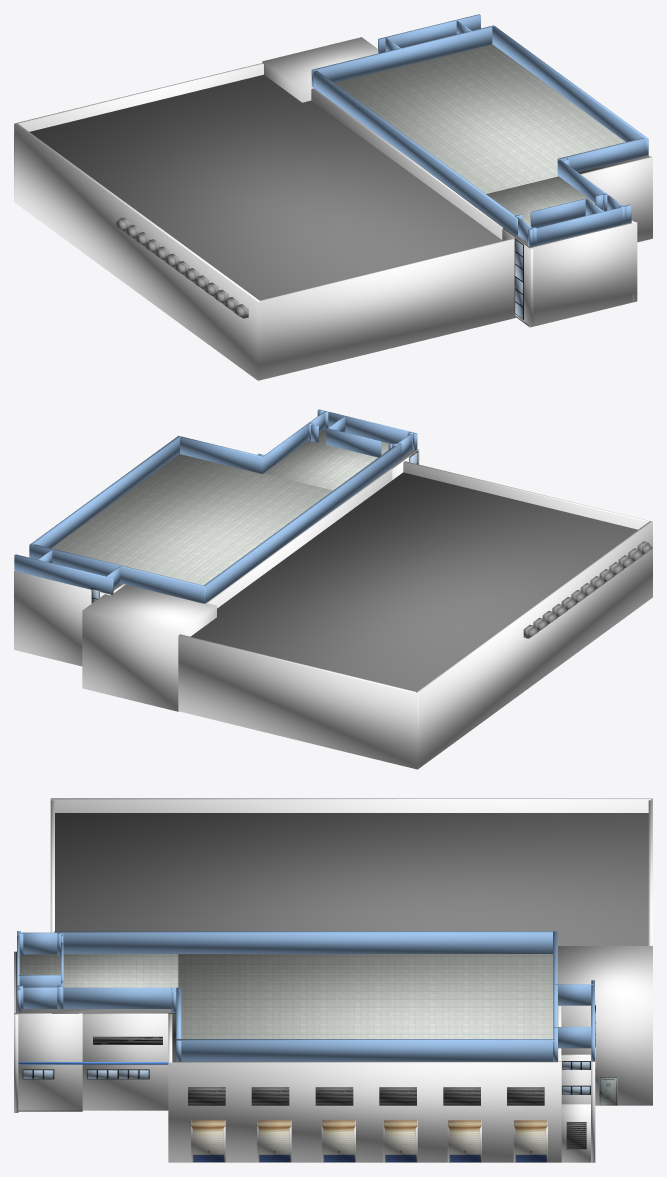
Rendered from wfa_3f_mini.gltf.
The picture shows the model from 3 angles, top to bottom: view 1: azimuth 30°, elevation 25°; view 2: azimuth 150°, elevation 25°; view 3: azimuth 270°, elevation 25°; orthographic projection. The views are drawn at different scales.
Parts seen in each view (by area): view 1: wfa_waiguan_rf, wfa_dimian_rf, wfa_waiguan_rf_2, wfa_waiguan_rf_58, wfa_waiguan_rf_8, wfa_qiang_rf_3, wfa_qiang_rf_2, wfa_waiguan_rf_3, wfa_qiang_rf_4, wfa_waiguan_rf_29, wfa_waiguan_rf_7, wfa_waiguan_rf_59 (+6 smaller); view 2: wfa_waiguan_rf, wfa_dimian_rf, wfa_waiguan_rf_3, wfa_waiguan_rf_58, wfa_waiguan_rf_29, wfa_waiguan_rf_25, wfa_qiang_rf_3, wfa_waiguan_rf_2, wfa_qiang_rf_2, wfa_qiang_rf_4, wfa_waiguan_rf_59, wfa_qiang_rf_20 (+4 smaller); view 3: wfa_waiguan_rf, wfa_dimian_rf, wfa_waiguan_rf_60, wfa_qiang_rf_3, wfa_waiguan_rf_29, wfa_waiguan_rf_58, wfa_qiang_rf_4, wfa_waiguan_rf_63, wfa_waiguan_rf_62, wfa_qiang_rf, wfa_waiguan_rf_1, wfa_waiguan_rf_15 (+26 smaller).
Boxes of the visible parts, x1,y1,x2,y2 form: wfa_waiguan_rf: (30,74,502,300); wfa_dimian_rf: (334,44,625,225); wfa_waiguan_rf_2: (258,238,516,380); wfa_waiguan_rf_58: (14,123,260,380); wfa_waiguan_rf_8: (529,221,637,327); wfa_qiang_rf_3: (313,70,517,235); wfa_qiang_rf_2: (311,25,494,87); wfa_waiguan_rf_3: (14,63,263,202); wfa_qiang_rf_4: (492,26,648,155); wfa_waiguan_rf_29: (262,37,377,102); wfa_waiguan_rf_7: (580,156,652,242); wfa_waiguan_rf_59: (311,88,515,239); wfa_waiguan_rf: (190,472,637,691); wfa_dimian_rf: (51,429,388,585); wfa_waiguan_rf_3: (178,634,418,769); wfa_waiguan_rf_58: (416,521,652,768); wfa_waiguan_rf_29: (82,583,216,711); wfa_waiguan_rf_25: (14,571,110,666); wfa_qiang_rf_3: (204,443,401,602); wfa_waiguan_rf_2: (403,461,649,529); wfa_qiang_rf_2: (29,544,206,603); wfa_qiang_rf_4: (31,435,181,547); wfa_waiguan_rf_59: (206,460,404,608); wfa_qiang_rf_20: (14,554,113,595); wfa_waiguan_rf: (55,813,648,945); wfa_dimian_rf: (19,954,552,1038); wfa_waiguan_rf_60: (168,1061,561,1162); wfa_qiang_rf_3: (54,931,552,953); wfa_waiguan_rf_29: (558,946,652,1105); wfa_waiguan_rf_58: (51,798,650,812); wfa_qiang_rf_4: (176,1039,554,1061); wfa_waiguan_rf_63: (82,1013,168,1110); wfa_waiguan_rf_62: (14,1013,82,1110); wfa_qiang_rf: (63,987,176,1008); wfa_waiguan_rf_1: (16,951,557,1062); wfa_waiguan_rf_15: (191,1120,225,1162).
Bounding box in the file's own units: 151 × 31.39 × 150.
11 materials, 5 textured.
